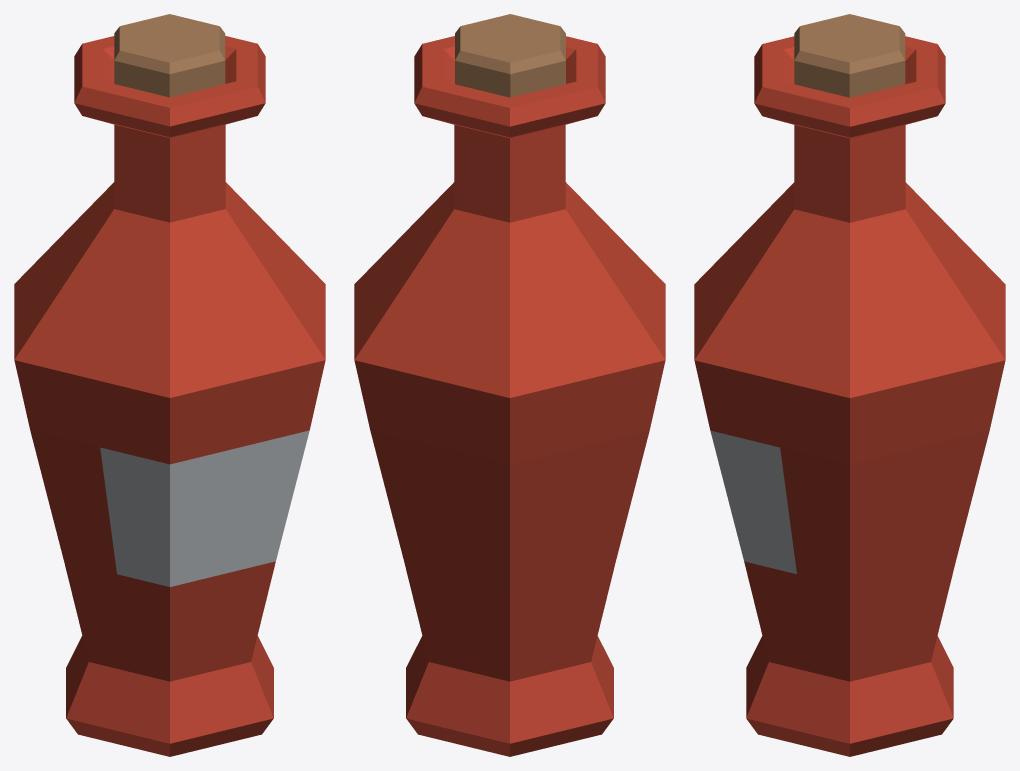
The model's file is Red_Potion_8(Label).fbx.
The picture shows the model from 3 angles, left to right: view 1: azimuth 30°, elevation 25°; view 2: azimuth 150°, elevation 25°; view 3: azimuth 270°, elevation 25°; orthographic projection.
Visible parts, largest first — view 1: Red_Potion_8(Label); view 2: Red_Potion_8(Label); view 3: Red_Potion_8(Label).
Part boxes in pixels (x1,y1,x2,y2): Red_Potion_8(Label): (14,14,325,756); Red_Potion_8(Label): (354,14,665,756); Red_Potion_8(Label): (694,14,1005,756).
Size of the model in its own units: 16.45 by 34.03 by 14.25.
